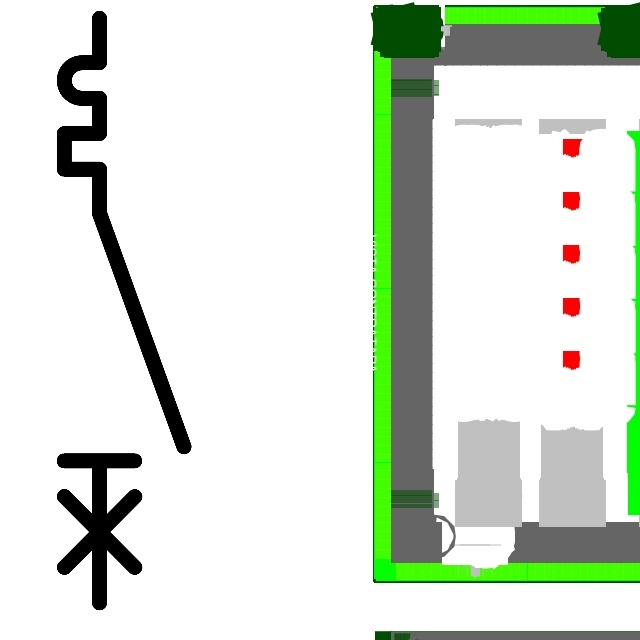interruptor_termomagnetico: (49, 3, 199, 617)
